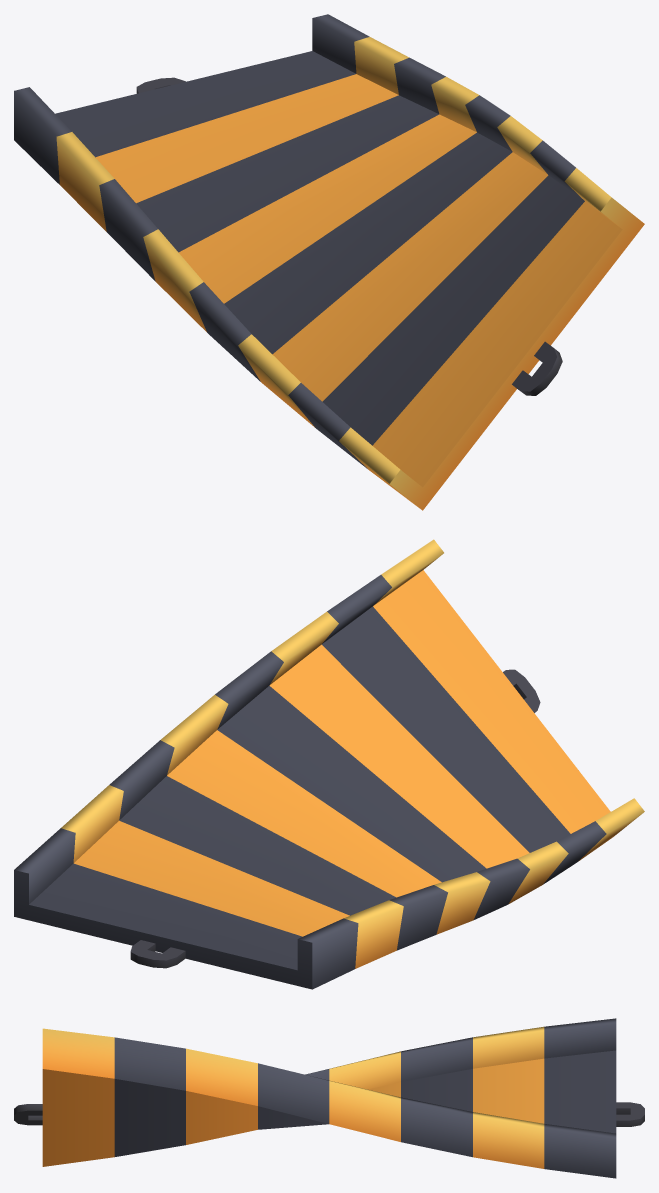
Rendered from track-striped-wide-straight-skew-right.fbx.
The picture shows the model from 3 angles, top to bottom: view 1: azimuth 30°, elevation 25°; view 2: azimuth 150°, elevation 25°; view 3: azimuth 270°, elevation 25°; orthographic projection. The views are drawn at different scales.
Visible parts, largest first — view 1: track-striped-wide-straight-skew-right; view 2: track-striped-wide-straight-skew-right; view 3: track-striped-wide-straight-skew-right.
Boxes of the visible parts, box(x1,y1,x2,y2) form: track-striped-wide-straight-skew-right: box(14, 14, 644, 510); track-striped-wide-straight-skew-right: box(14, 539, 644, 989); track-striped-wide-straight-skew-right: box(14, 1018, 644, 1178).
Size of the model in its own units: 204 by 163 by 440.
